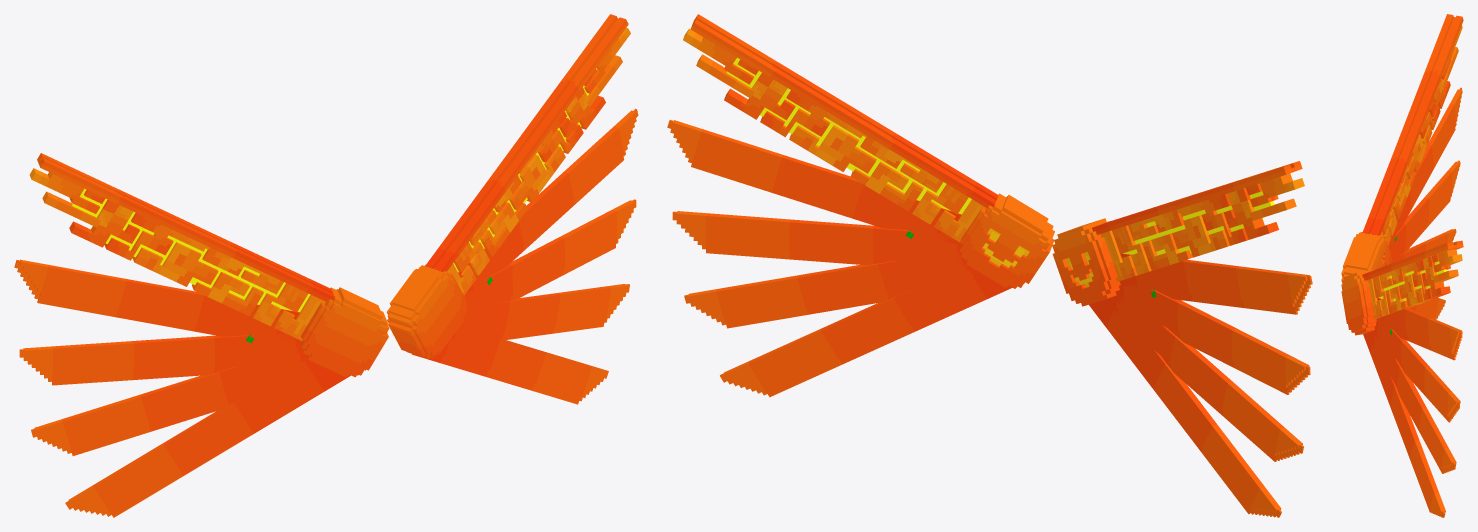
Rendered from 南瓜羽翼.gltf.
3 renders of one model, left to right at view 1: azimuth 30°, elevation 25°; view 2: azimuth 150°, elevation 25°; view 3: azimuth 270°, elevation 25°, orthographic. The views are drawn at different scales.
Parts seen in each view (by area): view 1: 翅膀 (×2); view 2: 翅膀 (×2); view 3: 翅膀 (×2).
Part boxes in pixels (left/top/right/bottom): 翅膀 (×2): left=14, top=14, right=638, bottom=517; 翅膀 (×2): left=667, top=14, right=1312, bottom=517; 翅膀 (×2): left=1341, top=14, right=1463, bottom=517.
Bounding box in the file's own units: 87.76 × 48.85 × 18.49.
Materials: 1 (1 with a texture image).
